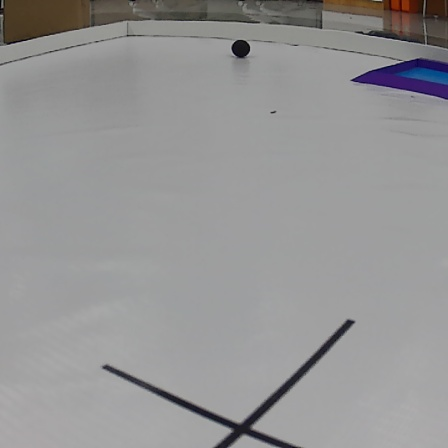black: (233, 39, 250, 58)
blue_aim: (355, 56, 448, 95)
